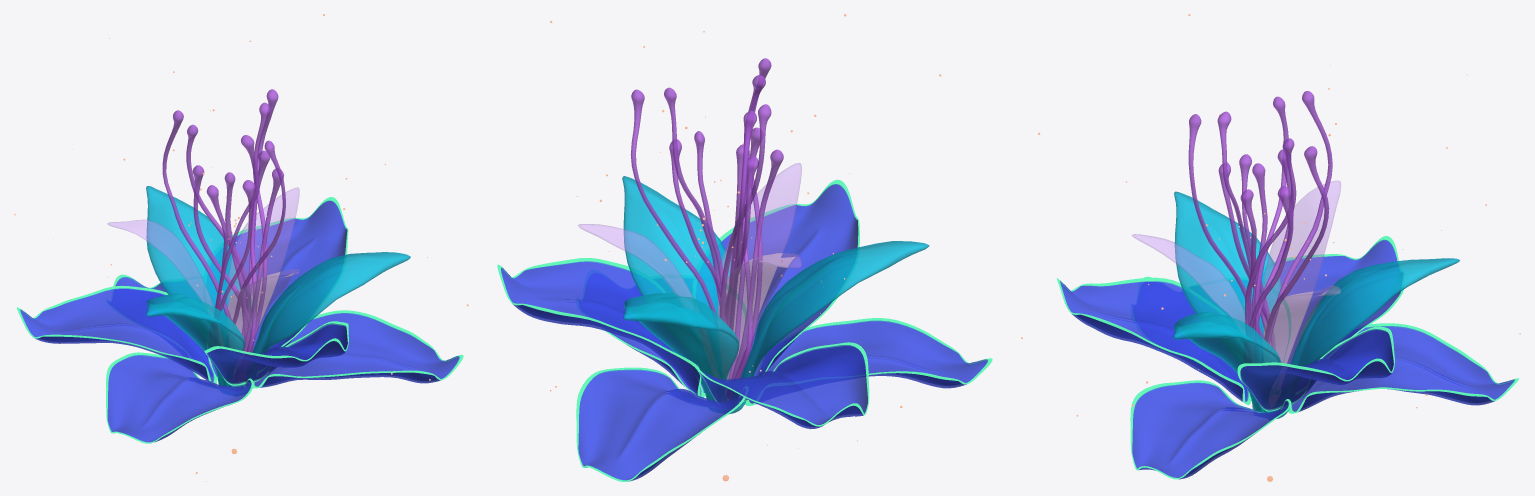
The model's file is floower2.glb.
3 views of the same model, side by side, from view 1: azimuth 30°, elevation 25°; view 2: azimuth 150°, elevation 25°; view 3: azimuth 270°, elevation 25° (orthographic). The views are drawn at different scales.
Parts seen in each view (by area): view 1: Plane.007, Plane.006, Plane.004, Plane, Plane.003, Plane.008, Plane.005, Vert.002, Plane.009, Plane.001, Vert, Vert.001 (+3 smaller); view 2: Plane.002, Plane.003, Plane.007, Plane.005, Plane.008, Plane.006, Plane.009, Plane, Vert, Plane.010, Vert.002, Plane.011 (+3 smaller); view 3: Plane.004, Plane.005, Plane.002, Plane.009, Plane, Plane.003, Plane.011, Vert, Plane.007, Plane.008, Vert.002, Vert.001 (+2 smaller).
Boxes of the visible parts, box(x1,y1,x2,y2) form: Plane.007: box(17, 285, 216, 384); Plane.006: box(106, 352, 253, 443); Plane.004: box(253, 310, 463, 388); Plane: box(146, 186, 239, 314); Plane.003: box(204, 197, 348, 373); Plane.008: box(236, 252, 410, 386); Plane.005: box(204, 321, 348, 385); Vert.002: box(162, 110, 254, 352); Plane.009: box(146, 293, 244, 386); Plane.001: box(227, 187, 299, 332); Vert: box(241, 89, 284, 352); Vert.001: box(206, 135, 285, 324); Plane.002: box(576, 367, 747, 481); Plane.003: box(497, 258, 704, 398); Plane.007: box(697, 342, 869, 429); Plane.005: box(693, 179, 859, 378); Plane.008: box(622, 176, 731, 315); Plane.006: box(745, 318, 992, 405); Plane.009: box(730, 241, 929, 413); Plane: box(623, 293, 739, 414); Vert: box(630, 87, 726, 314); Plane.010: box(718, 163, 801, 353); Vert.002: box(719, 104, 771, 379); Plane.011: box(718, 253, 801, 379); Plane.004: box(1130, 380, 1291, 479); Plane.005: box(1056, 277, 1250, 404); Plane.002: box(1288, 323, 1519, 413); Plane.009: box(1174, 191, 1281, 412); Plane: box(1270, 258, 1459, 418); Plane.003: box(1237, 326, 1394, 411); Plane.011: box(1263, 181, 1340, 363); Vert: box(1240, 138, 1329, 342); Plane.007: box(1263, 236, 1403, 394); Plane.008: box(1173, 312, 1281, 412); Vert.002: box(1252, 91, 1332, 344); Vert.001: box(1188, 111, 1275, 350).
Size of what is drawn, in the model's own units: 7.75 by 8.32 by 8.92.
